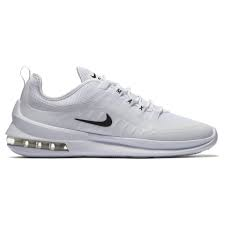nike: (73, 111, 115, 128)
